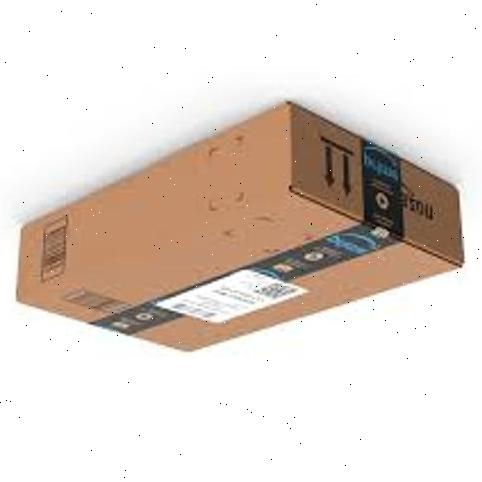Amazon: (15, 98, 468, 358)
